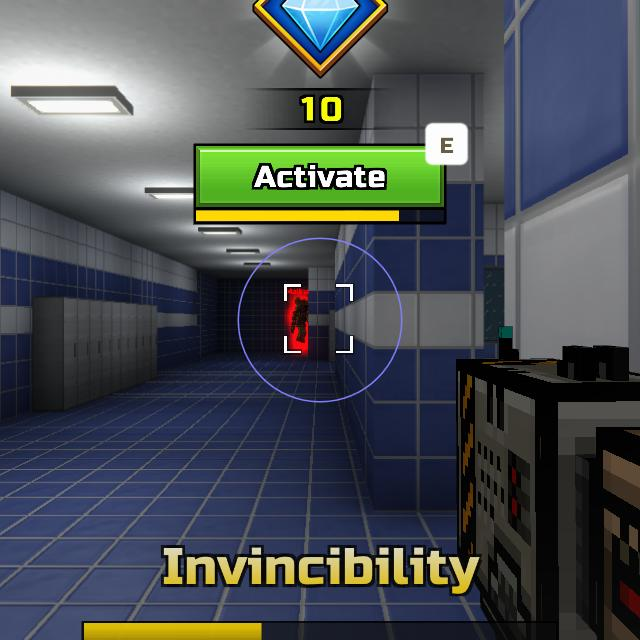Enemy: (295, 296, 308, 343)
